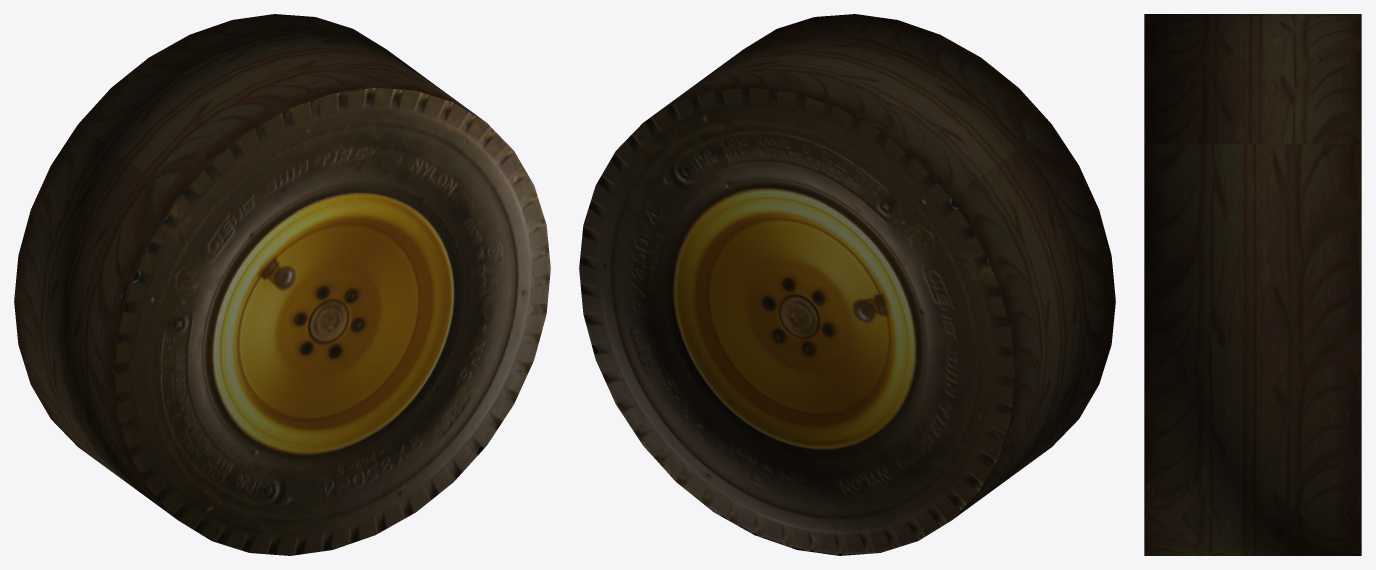
Rendered from wheel.fbx.
The picture shows the model from 3 angles, left to right: view 1: azimuth 30°, elevation 25°; view 2: azimuth 150°, elevation 25°; view 3: azimuth 270°, elevation 25°; orthographic projection. The views are drawn at different scales.
Parts seen in each view (by area): view 1: Cylinder; view 2: Cylinder; view 3: Cylinder.
Boxes of the visible parts, x1,y1,x2,y2 form: Cylinder: (14,14,550,555); Cylinder: (579,14,1115,555); Cylinder: (1144,14,1361,555).
Bounding box in the file's own units: 48 × 48 × 19.2.
